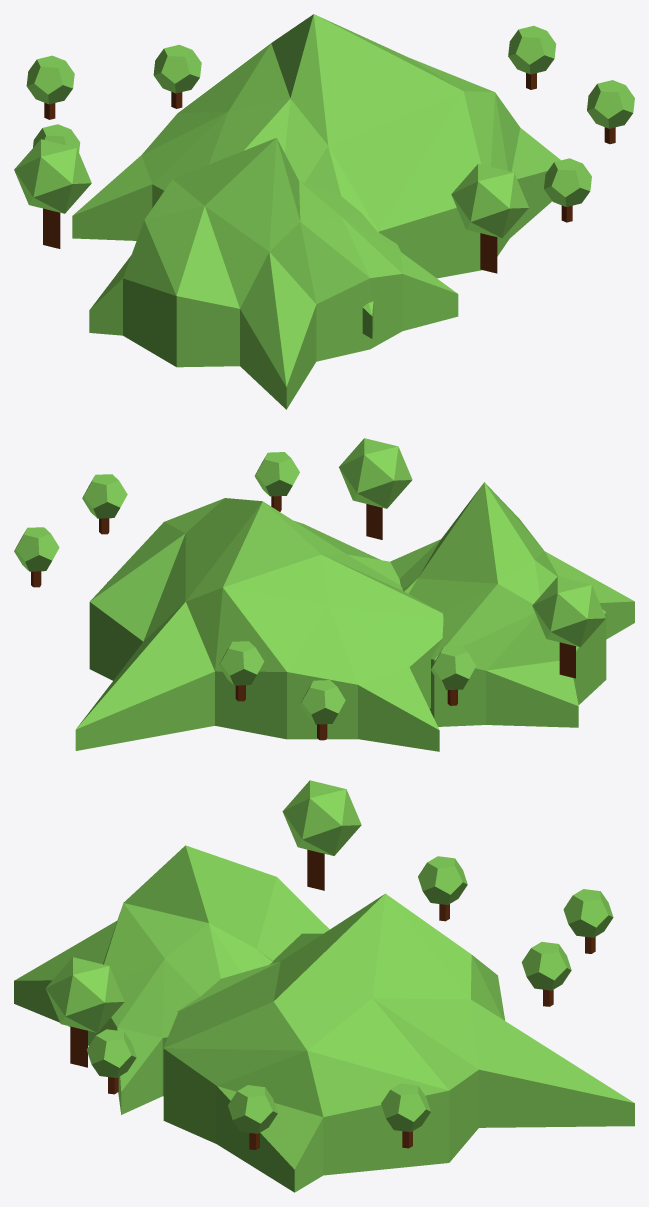
The model's file is deco01.fbx.
3 views of the same model, one above another, from view 1: azimuth 30°, elevation 25°; view 2: azimuth 150°, elevation 25°; view 3: azimuth 270°, elevation 25° (orthographic). The views are drawn at different scales.
Visible parts, largest first — view 1: Polygon_1; view 2: Polygon_1; view 3: Polygon_1.
Boxes of the visible parts, box(x1,y1,x2,y2) form: Polygon_1: box(14, 14, 634, 409); Polygon_1: box(14, 438, 634, 751); Polygon_1: box(14, 780, 634, 1192).
Bounding box in the file's own units: 529 × 186 × 488.
Materials: 1 (1 with a texture image).
